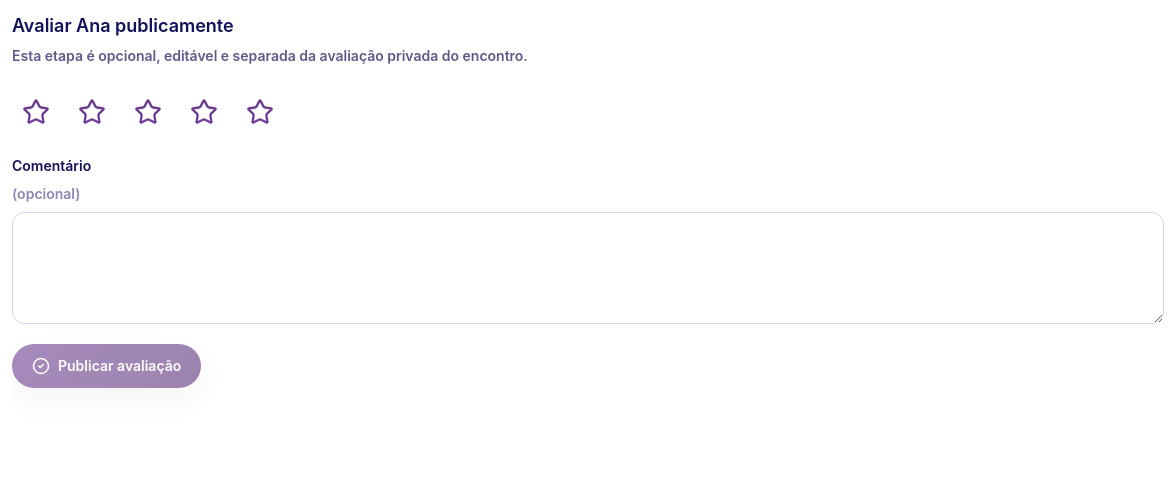
PatientPublicReviewForm › publishes and later offers hiding the canonical review
The image size is (1176, 486).
Expected: the text "separada da avaliação privada" is shown, left=12, top=47, right=528, bottom=64
Click the button named "5 estrelas" at x=260, y=112, box left=236, top=88, right=284, bottom=136
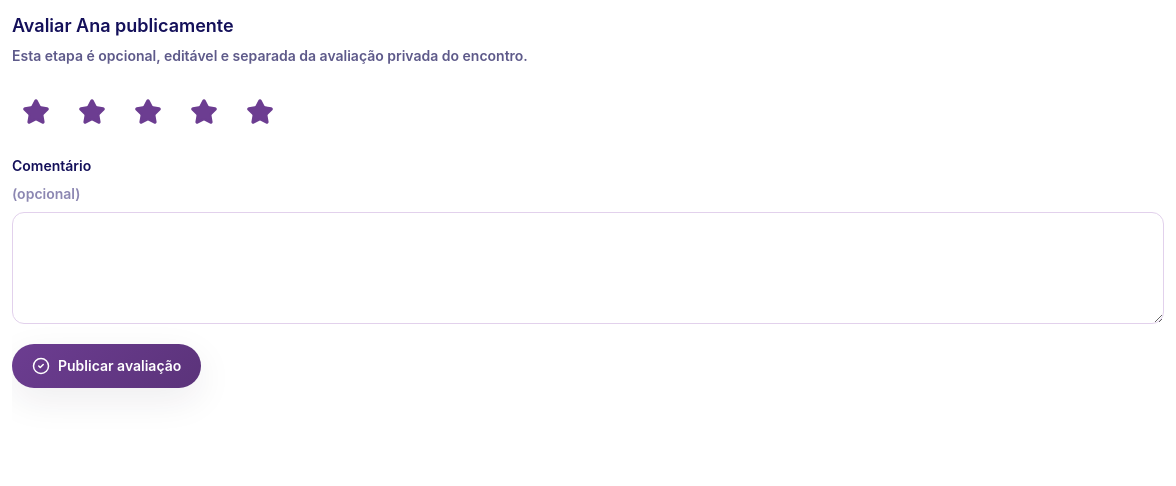
Type "Acolhimento cuidadoso." into the text box labelled "Comentário (opcional)" at x=588, y=268, box left=12, top=212, right=1164, bottom=324
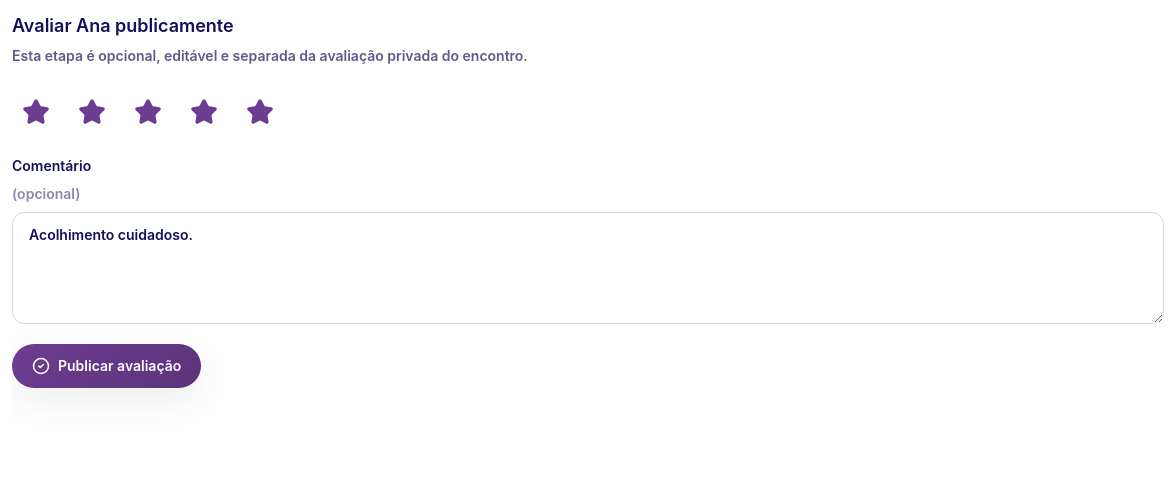
Click the button "Publicar avaliação" at x=107, y=366, box left=12, top=344, right=201, bottom=388
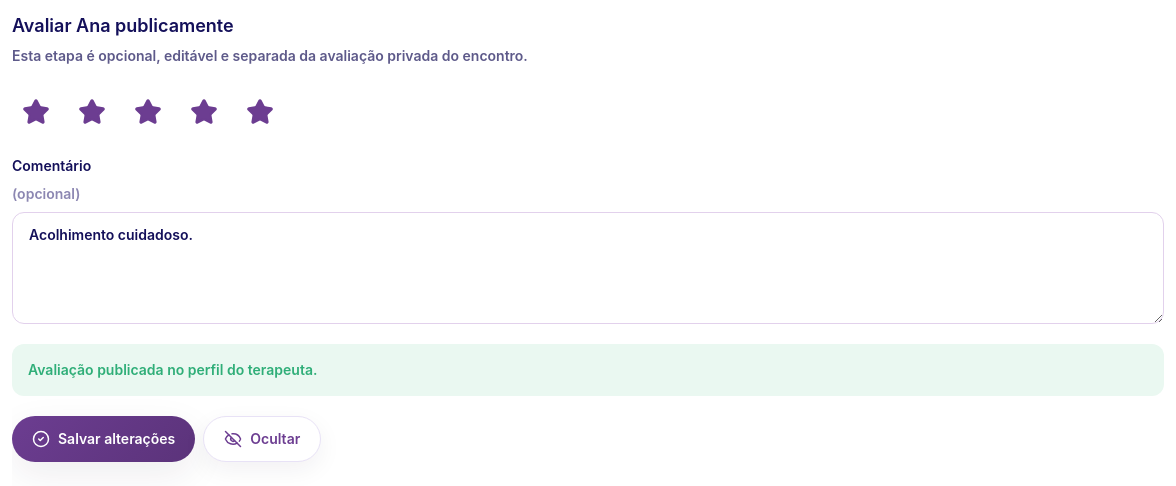
Now the text "Avaliação publicada no perfil do terapeuta." is shown, box left=12, top=344, right=1164, bottom=396
Now the button "Ocultar" is shown, box left=203, top=416, right=321, bottom=462
